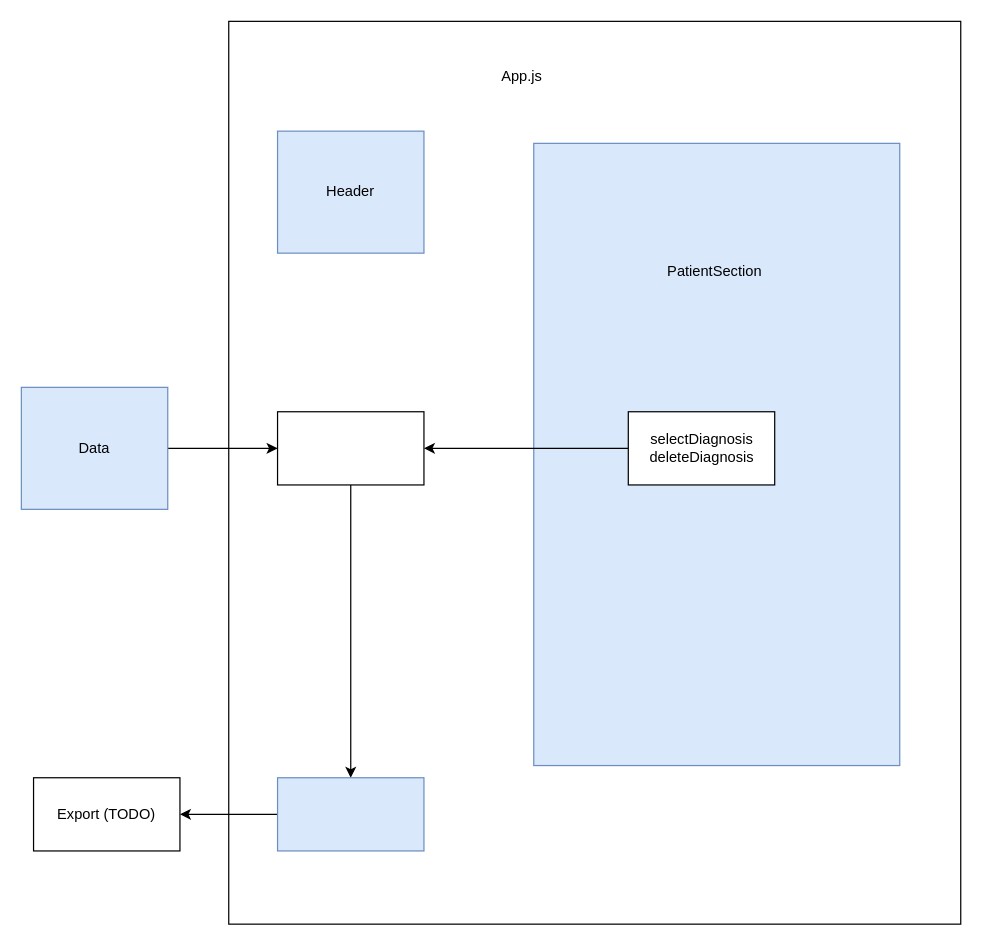
This 982x946 diagram has some shape labels left out. Each missing label, with the centre of its shape:
Patient Status: pixel 350 448
SubmitSection: pixel 350 814
